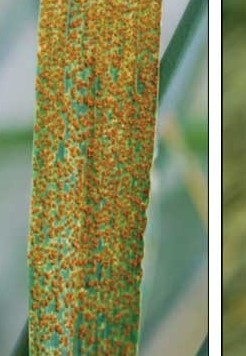Leaf Rust: (22, 3, 164, 340)
